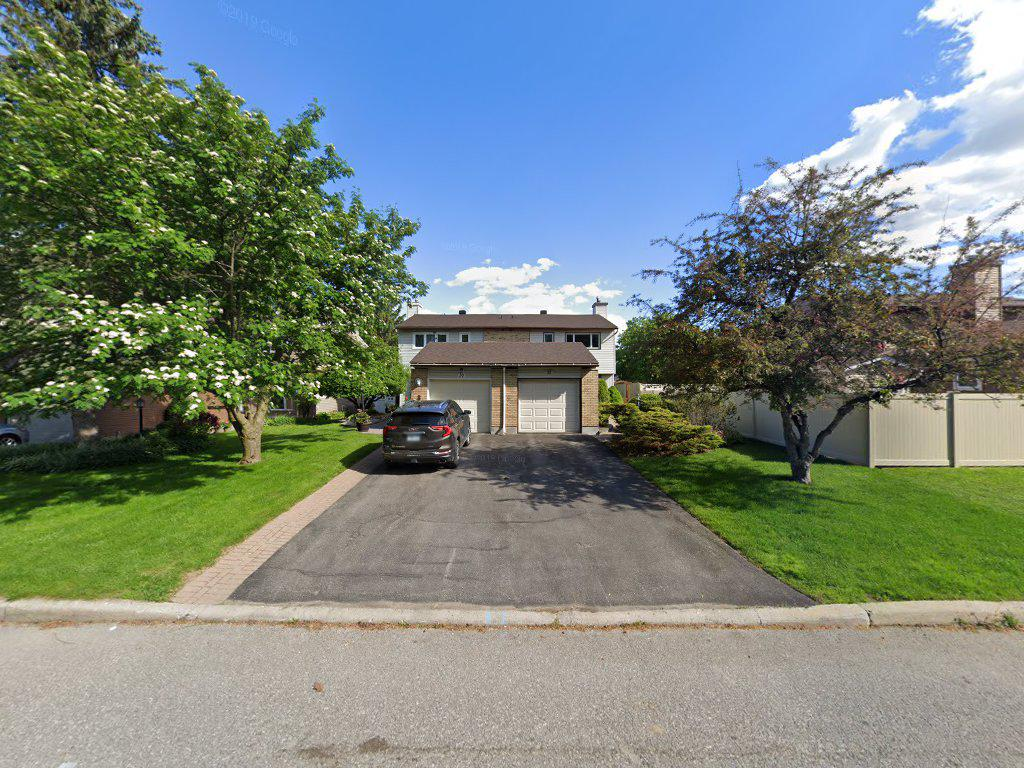trunk: (776, 395, 830, 492), (225, 383, 276, 475)
